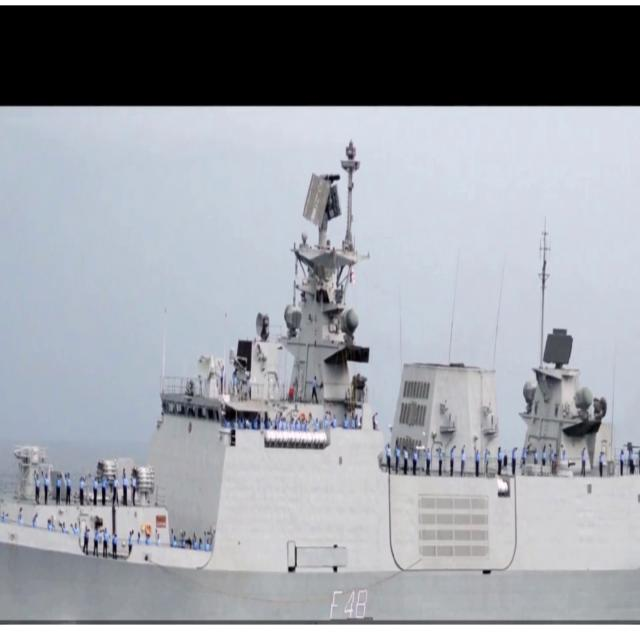OCR: (322, 587, 374, 624)
